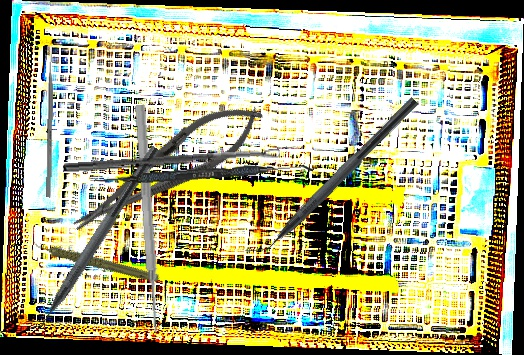Chopper: (242, 85, 420, 268), (17, 136, 161, 345)
Handpiece: (30, 212, 161, 308)
Needle Holder: (60, 87, 274, 249)
Pusher: (132, 104, 163, 333), (46, 41, 54, 198)
Spatula Surgical: (93, 158, 315, 190)
Surgical Spoon: (62, 148, 281, 174)
